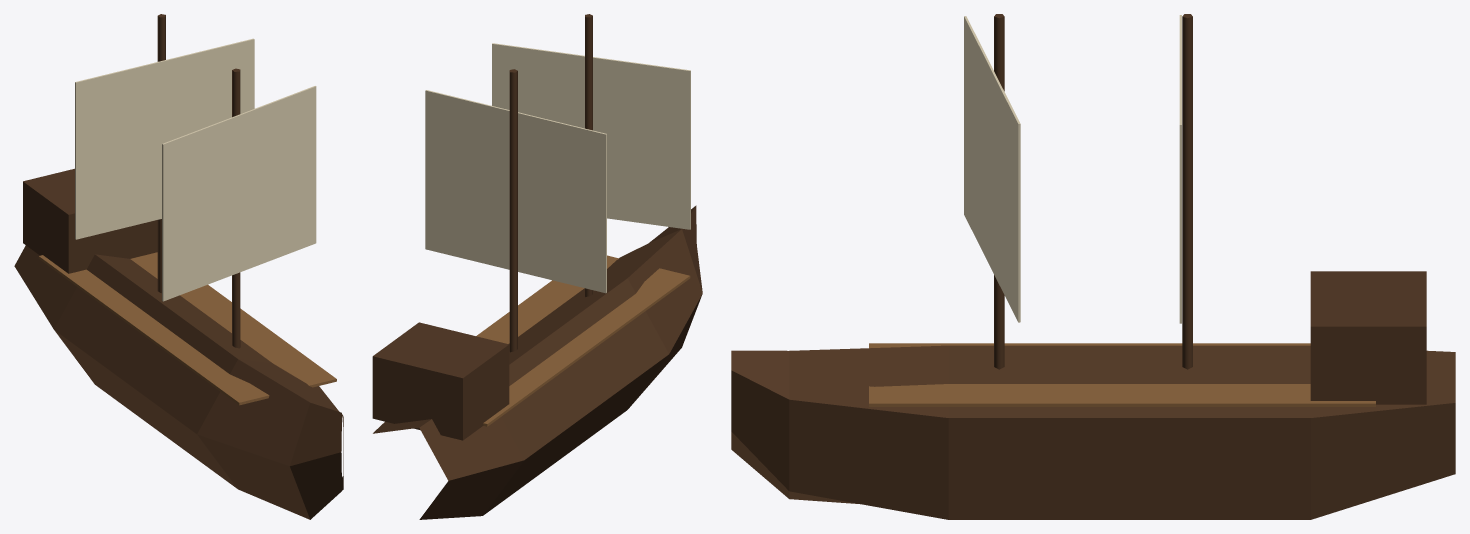
Rendered from veh_naval_merchant_a03_lod1.glb.
3 views of the same model, side by side, from view 1: azimuth 30°, elevation 25°; view 2: azimuth 150°, elevation 25°; view 3: azimuth 270°, elevation 25° (orthographic). The views are drawn at different scales.
Visible parts, largest first — view 1: body, sail_1, sail_0; view 2: body, sail_0, sail_1; view 3: body, sail_1, sail_0.
Boxes of the visible parts, bbox=[...] form: body: bbox=[14, 14, 343, 519]; sail_1: bbox=[162, 86, 316, 301]; sail_0: bbox=[75, 38, 254, 239]; body: bbox=[372, 14, 702, 519]; sail_0: bbox=[425, 90, 606, 293]; sail_1: bbox=[492, 43, 690, 229]; body: bbox=[731, 14, 1455, 519]; sail_1: bbox=[964, 16, 1020, 322]; sail_0: bbox=[1179, 15, 1181, 323].
Bounding box in the file's own units: 5.62 × 12.02 × 15.6.
